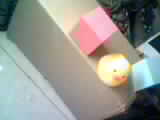duck: (92, 49, 121, 83)
